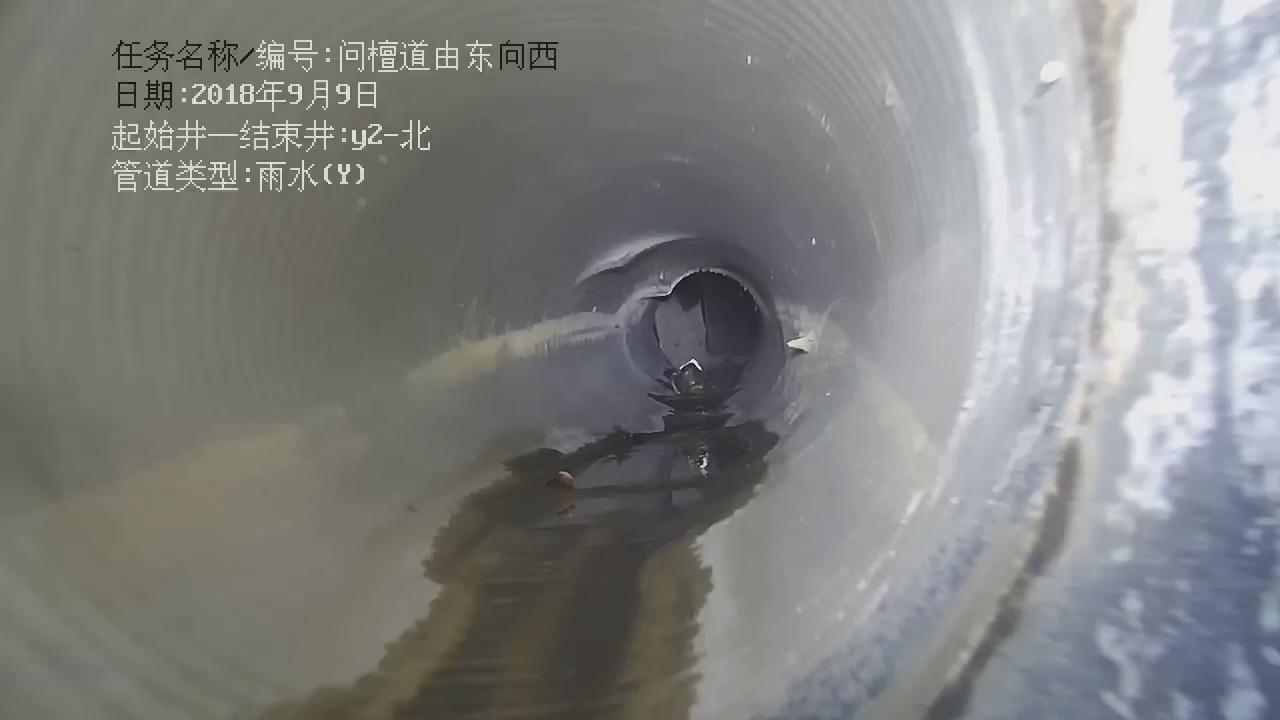BX: (559, 230, 802, 421)
